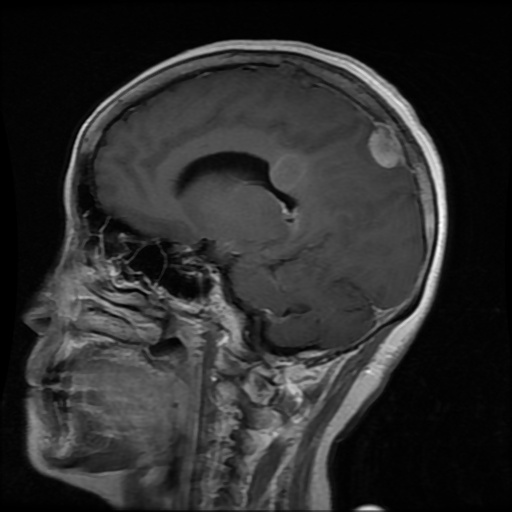glioma: (369, 121, 402, 167)
